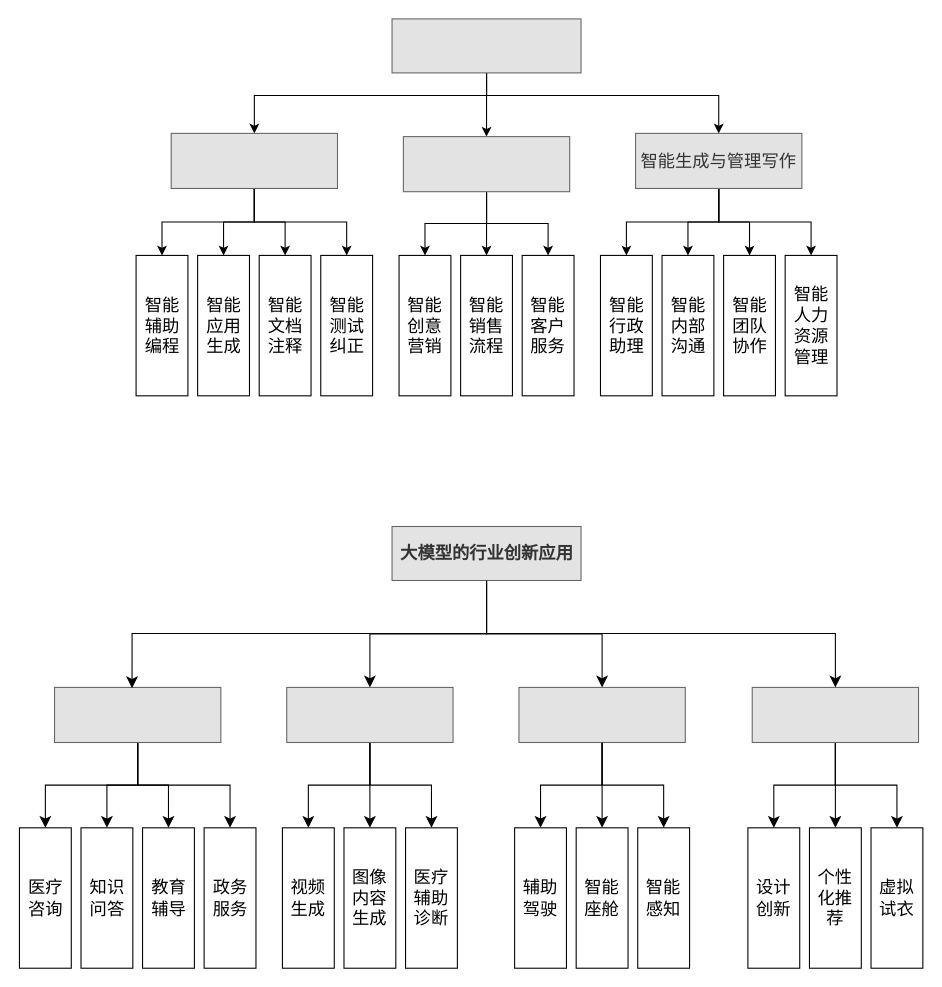
This 942x987 diagram has some shape labels left out. The shapes that lost their labels are listed below. From the top down, each one's centre as x and y in pixels, then its label:
the point at 486,45: 智能生成与创造性设计
the point at 254,160: 智能生成与产品研发
the point at 486,164: 智能生成与创意营销
the point at 137,714: 自然语言处理
the point at 369,714: 计算机视觉
the point at 601,714: 智能驾驶
the point at 835,714: 时尚设计
